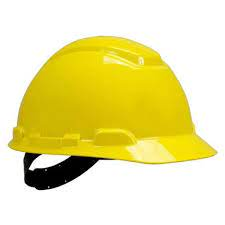helmet: (10, 29, 224, 172)
